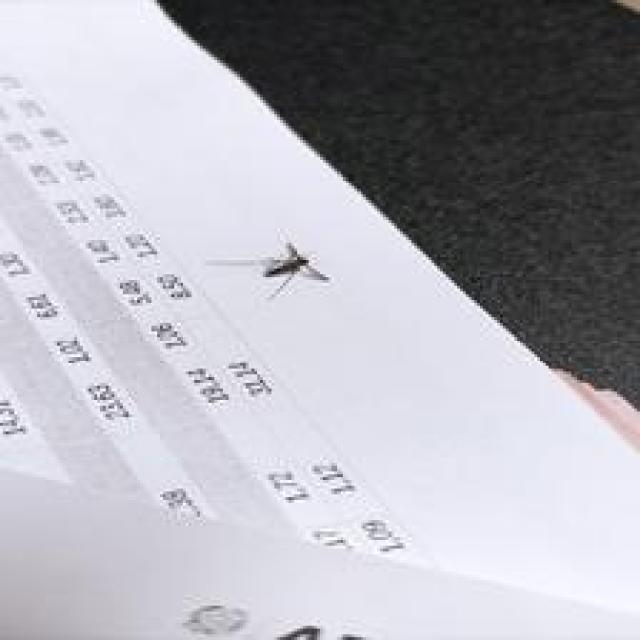Aedes albopictus: (206, 240, 331, 300)
